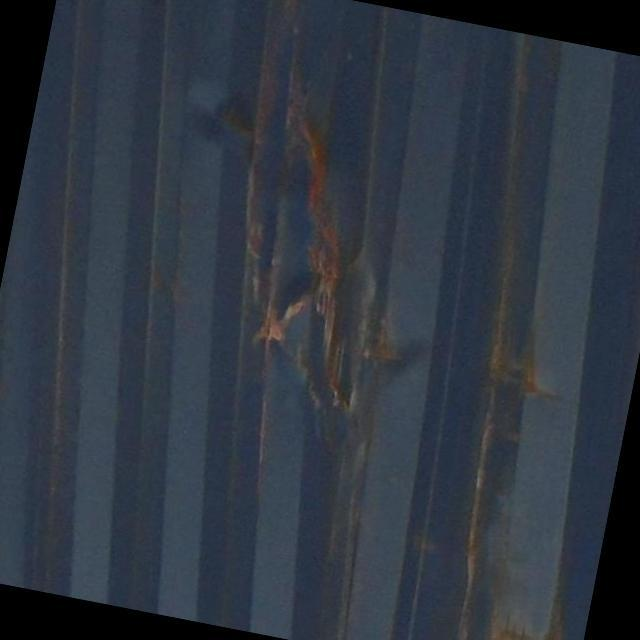rust: (120, 60, 430, 453)
